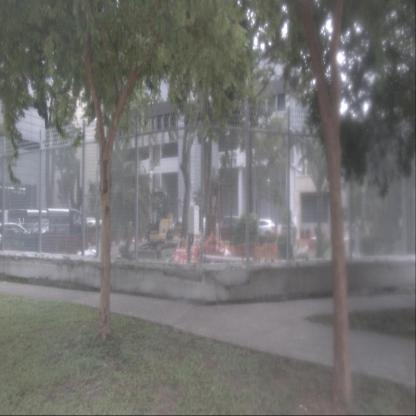vehicle-car: (0, 223, 34, 252), (212, 216, 244, 240), (249, 219, 276, 239)
vehicle-truck: (7, 208, 88, 254)
